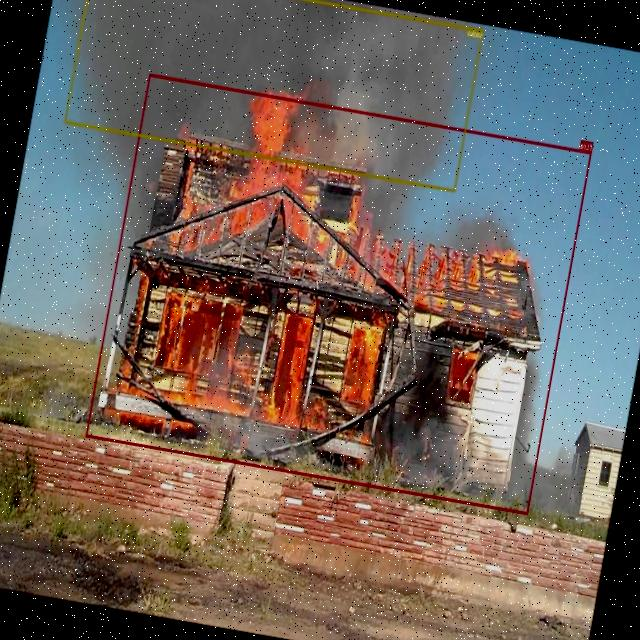fire: (86, 73, 592, 514)
smoke: (63, 0, 483, 191)
